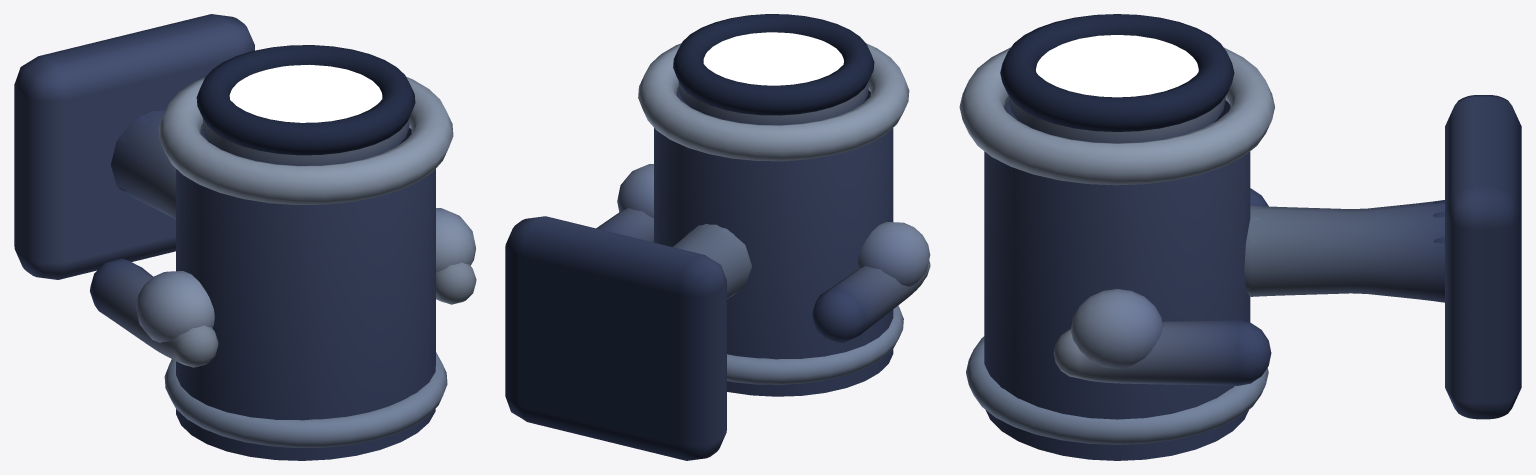
File: SpalakhMatteSpotlightStand_v099.glb
3 renders of one model, left to right at view 1: azimuth 30°, elevation 25°; view 2: azimuth 150°, elevation 25°; view 3: azimuth 270°, elevation 25°, orthographic. The views are drawn at different scales.
Parts seen in each view (by area): view 1: game_asset; view 2: game_asset; view 3: game_asset.
Boxes of the visible parts, <box> form: game_asset: <box>14,14,476,460</box>; game_asset: <box>505,14,930,460</box>; game_asset: <box>959,14,1521,460</box>.
Size of the model in its own units: 0.636 by 0.598 by 0.883.
